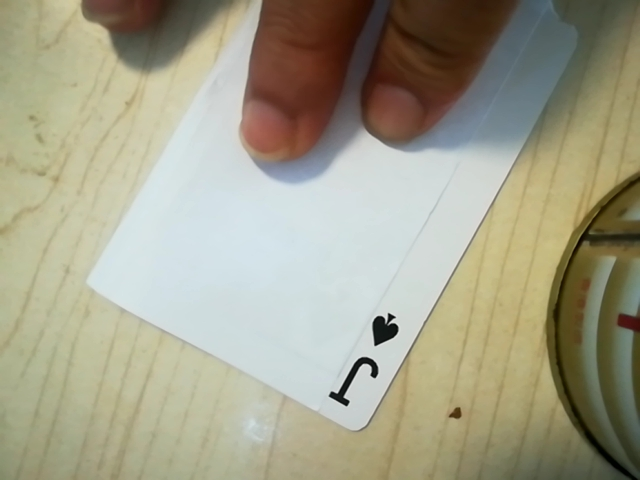ht j: (324, 300, 411, 421)
